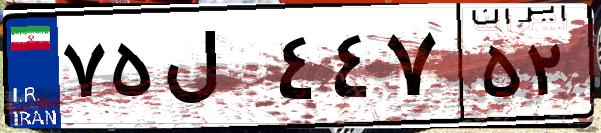2: (525, 38, 570, 115)
4: (270, 28, 330, 110), (330, 28, 385, 110)
5: (475, 38, 525, 113), (110, 28, 158, 98)
7: (385, 28, 445, 110), (57, 26, 110, 100)
ل: (158, 20, 270, 120)
